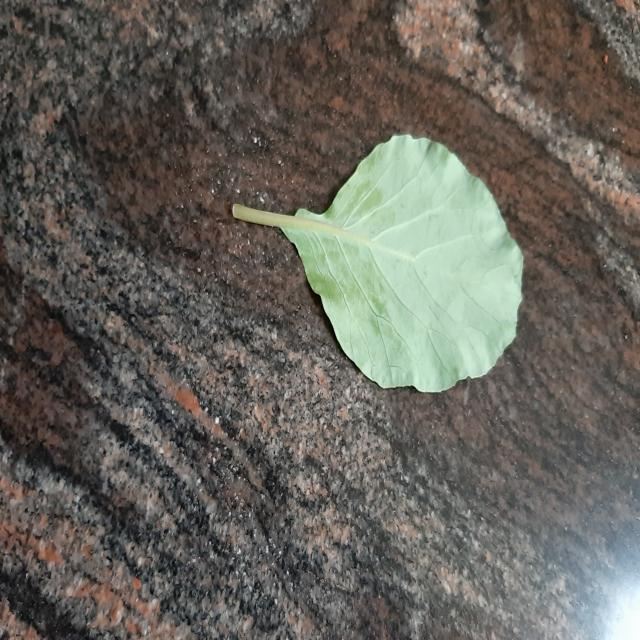Kohlrabi: (232, 136, 522, 391)
